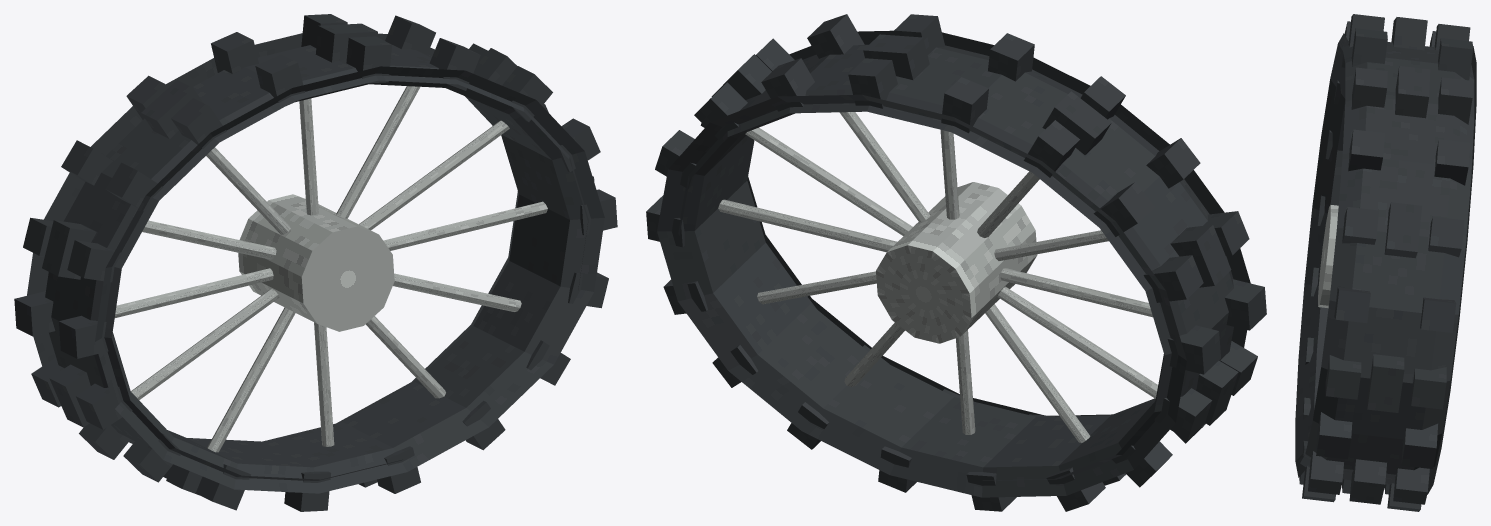
The model's file is deflated_wheel_bicycle_or.glb.
3 renders of one model, left to right at view 1: azimuth 30°, elevation 25°; view 2: azimuth 150°, elevation 25°; view 3: azimuth 270°, elevation 25°, orthographic. The views are drawn at different scales.
Visible parts, largest first — view 1: block_wheel cross section, block_raised off-road stud (×27), block_radial spoke (×12), block_wheel hub, block_center block (×5); view 2: block_wheel cross section, block_raised off-road stud (×26), block_radial spoke (×12), block_wheel hub, block_center block (×5); view 3: block_wheel cross section, block_raised off-road stud (×20), block_center block (×5), block_wheel hub.
Boxes of the visible parts, x1,y1,x2,y2 form: block_wheel cross section: (27,33,604,493); block_raised off-road stud (×27): (14,14,617,511); block_radial spoke (×12): (114,86,547,452); block_wheel hub: (238,194,394,331); block_center block (×5): (42,23,517,427); block_wheel cross section: (657,30,1250,497); block_raised off-road stud (×26): (646,14,1266,511); block_radial spoke (×12): (718,112,1158,442); block_wheel hub: (876,182,1037,343); block_center block (×5): (711,34,1238,425); block_wheel cross section: (1295,33,1476,494); block_raised off-road stud (×20): (1302,14,1473,511); block_center block (×5): (1349,17,1430,504); block_wheel hub: (1318,205,1338,308).
Size of the model in its own units: 0.686 by 0.5331 by 0.2072.
1 material, 1 textured.
